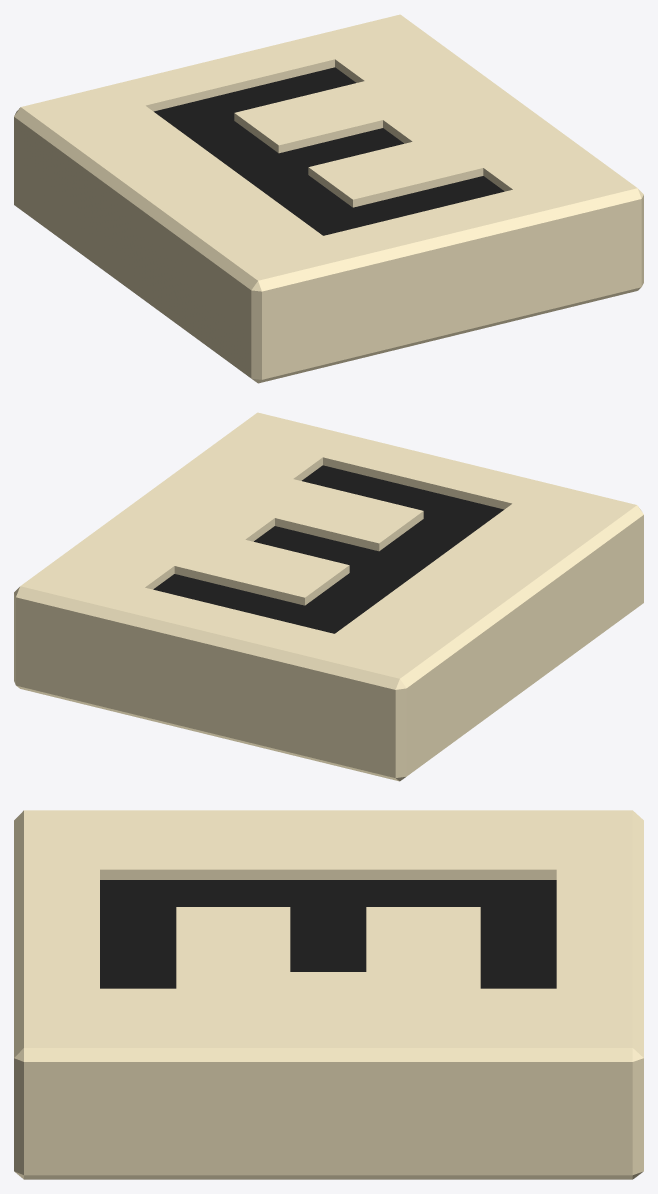
Rendered from Game_Anagram_Tile_E_01.fbx.
The picture shows the model from 3 angles, top to bottom: view 1: azimuth 30°, elevation 25°; view 2: azimuth 150°, elevation 25°; view 3: azimuth 270°, elevation 25°; orthographic projection. The views are drawn at different scales.
Parts seen in each view (by area): view 1: Game_Anagram_Tile_E_01; view 2: Game_Anagram_Tile_E_01; view 3: Game_Anagram_Tile_E_01.
Part boxes in pixels (x1,y1,x2,y2): Game_Anagram_Tile_E_01: (14, 14, 643, 383); Game_Anagram_Tile_E_01: (14, 412, 643, 781); Game_Anagram_Tile_E_01: (14, 810, 643, 1179).
Bounding box in the file's own units: 16.4 × 4.1 × 17.77.
